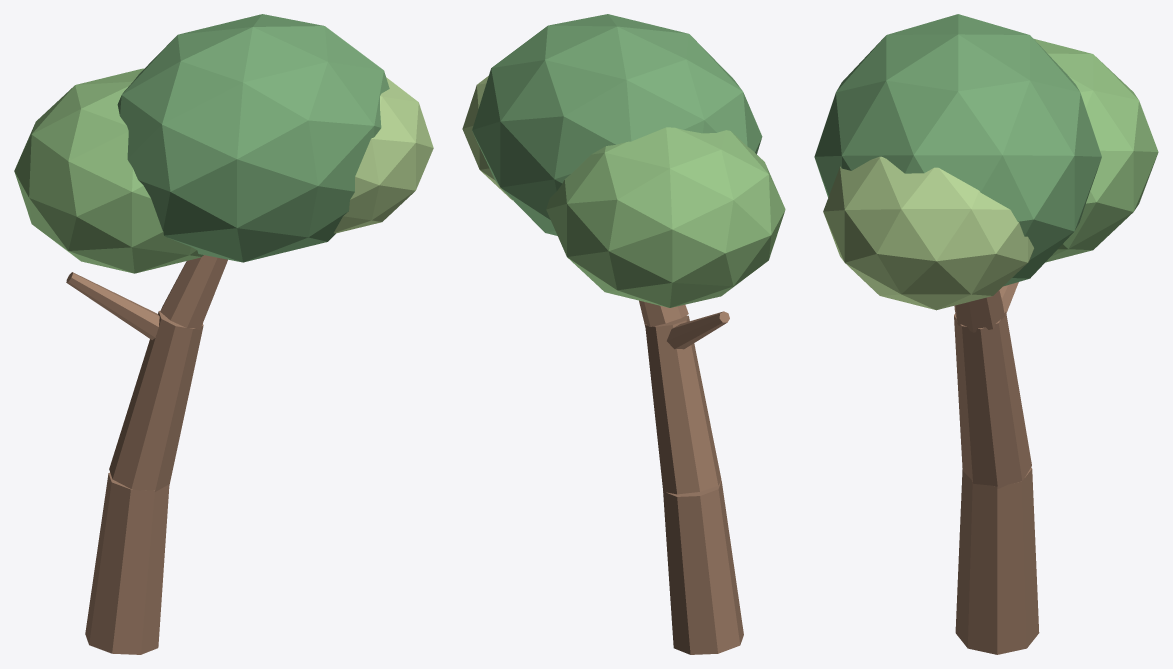
The model's file is tree_c_leaning_asym.glb.
3 views of the same model, side by side, from view 1: azimuth 30°, elevation 25°; view 2: azimuth 150°, elevation 25°; view 3: azimuth 270°, elevation 25° (orthographic). The views are drawn at different scales.
Visible parts, largest first — view 1: canopy_0, canopy_1, trunk_0, trunk_1, canopy_2, trunk_2, branch_0; view 2: canopy_0, canopy_1, trunk_0, trunk_1, branch_0, canopy_2, trunk_2; view 3: canopy_0, canopy_2, trunk_0, canopy_1, trunk_1, trunk_2.
Boxes of the visible parts, x1,y1,x2,y2 form: canopy_0: (117, 14, 389, 262); canopy_1: (14, 68, 203, 273); trunk_0: (85, 472, 169, 654); trunk_1: (109, 310, 203, 491); canopy_2: (334, 77, 433, 233); trunk_2: (160, 255, 227, 329); branch_0: (66, 272, 159, 339); canopy_0: (472, 14, 762, 235); canopy_1: (546, 127, 785, 307); trunk_0: (663, 480, 743, 654); trunk_1: (645, 315, 721, 494); branch_0: (667, 311, 729, 349); canopy_2: (462, 76, 512, 200); trunk_2: (639, 300, 688, 326); canopy_0: (814, 14, 1101, 286); canopy_2: (823, 156, 1033, 310); trunk_0: (955, 467, 1039, 654); canopy_1: (1034, 39, 1158, 262); trunk_1: (954, 308, 1031, 488); trunk_2: (954, 290, 1004, 332).
Bounding box in the file's own units: 5.1 × 8.4 × 3.95.
